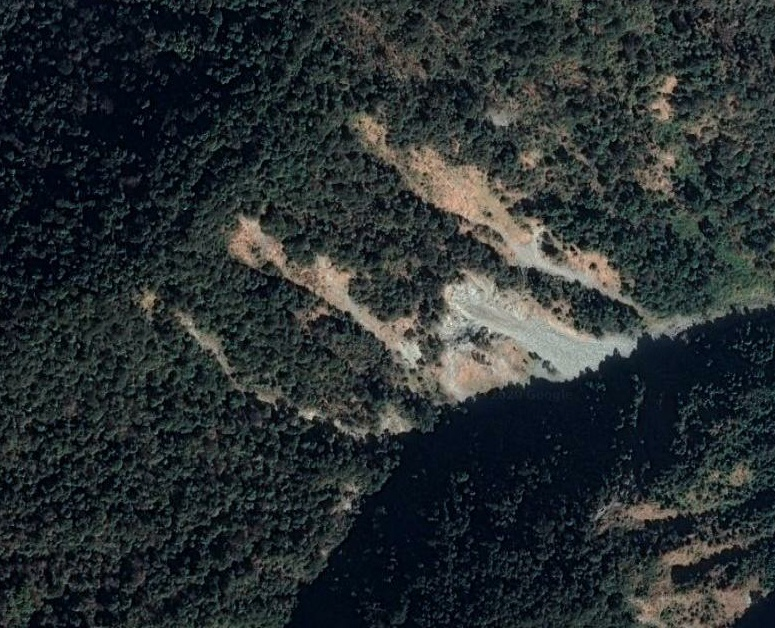slope: (350, 107, 690, 337), (222, 208, 630, 399), (591, 483, 758, 627), (372, 399, 420, 442)
